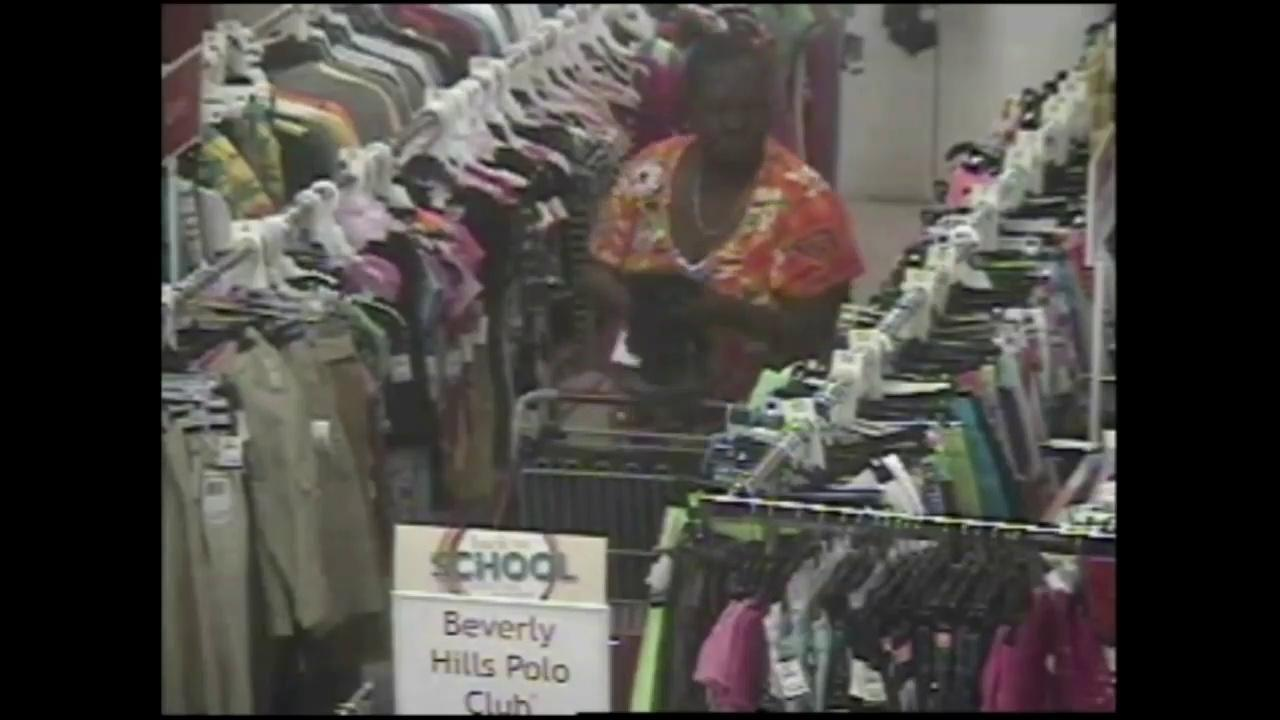Product: (633, 267, 704, 391)
Product-Picked: (552, 0, 870, 418)
Shopping-Cart: (486, 366, 719, 545)
